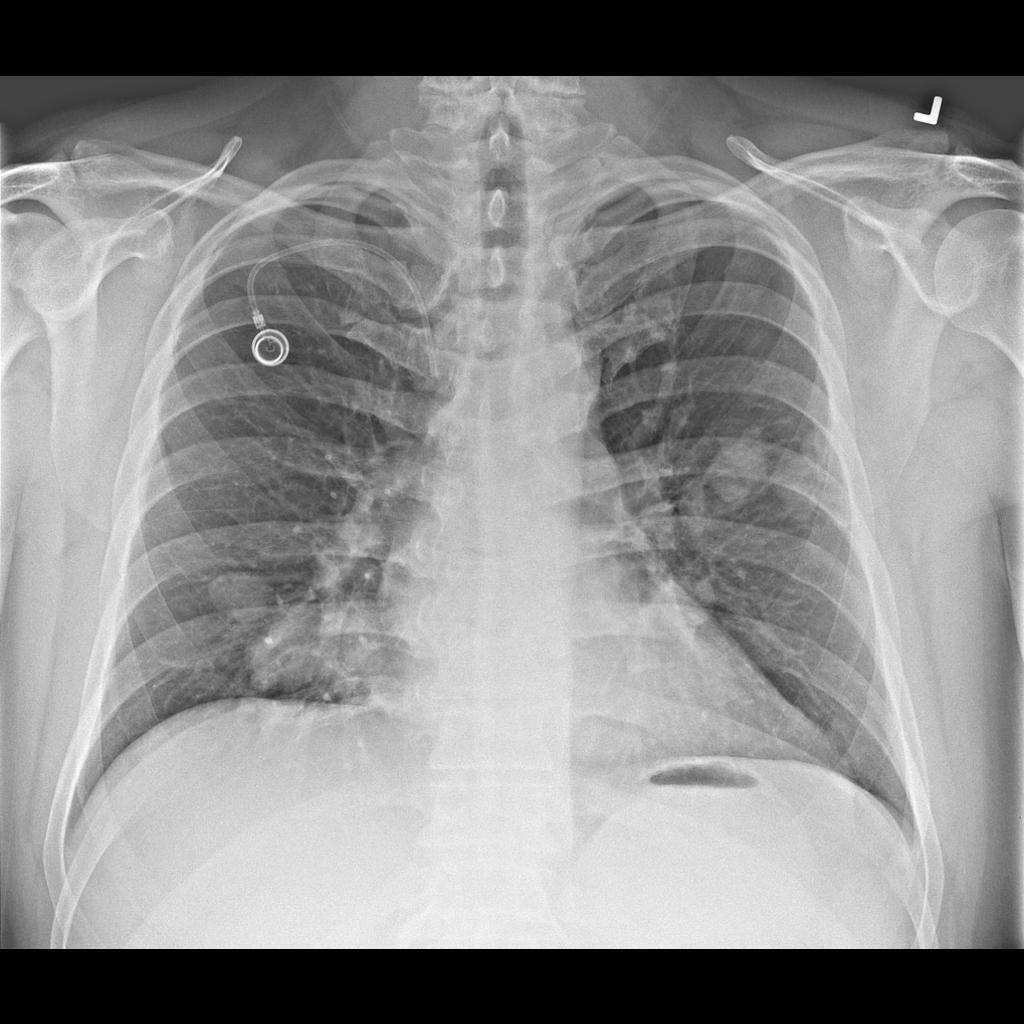Nodule: (203, 567, 355, 688), (704, 431, 777, 512), (649, 561, 723, 638)
